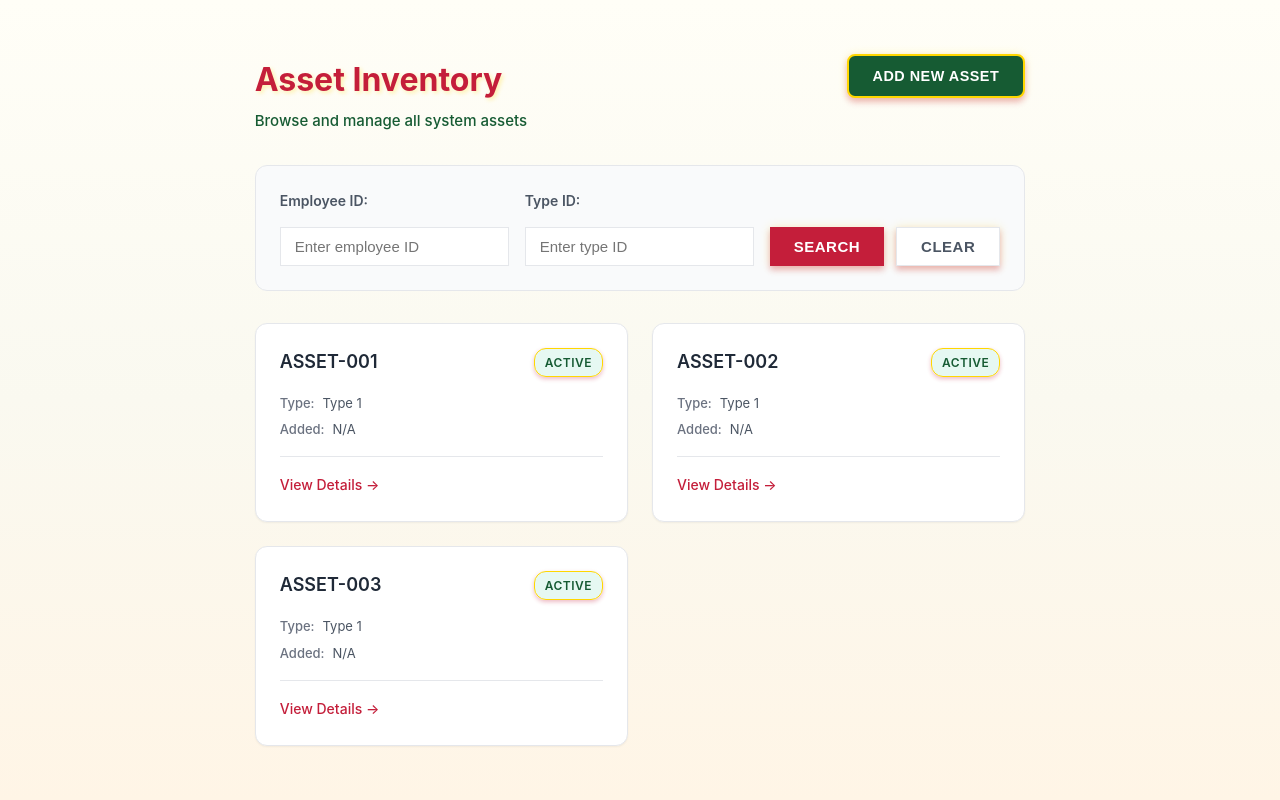
Test: AssetListView.vue › filters assets by employee ID
Type "1" into the field with id "employeeIdFilter" at (394, 246), box [280,226,509,266]
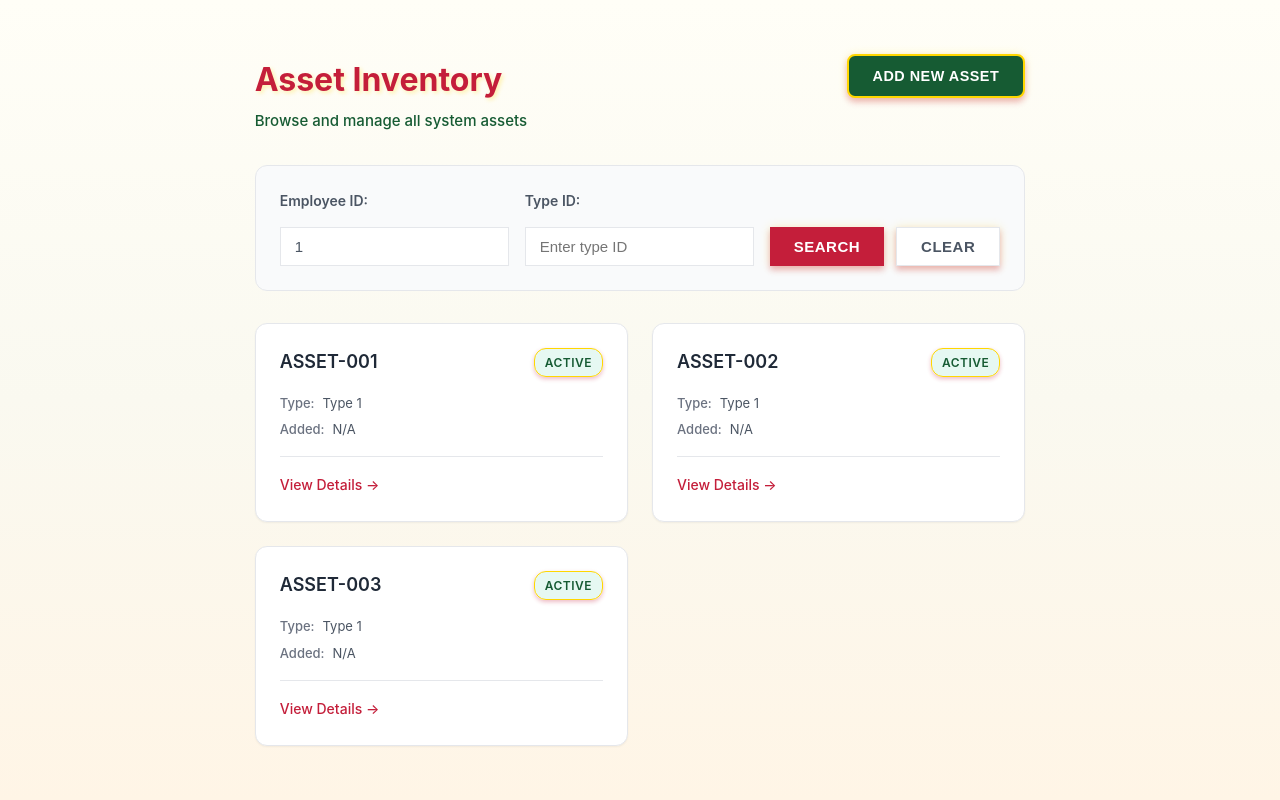
Click the button with class "btn-filter" at (827, 246), box [770,226,884,266]
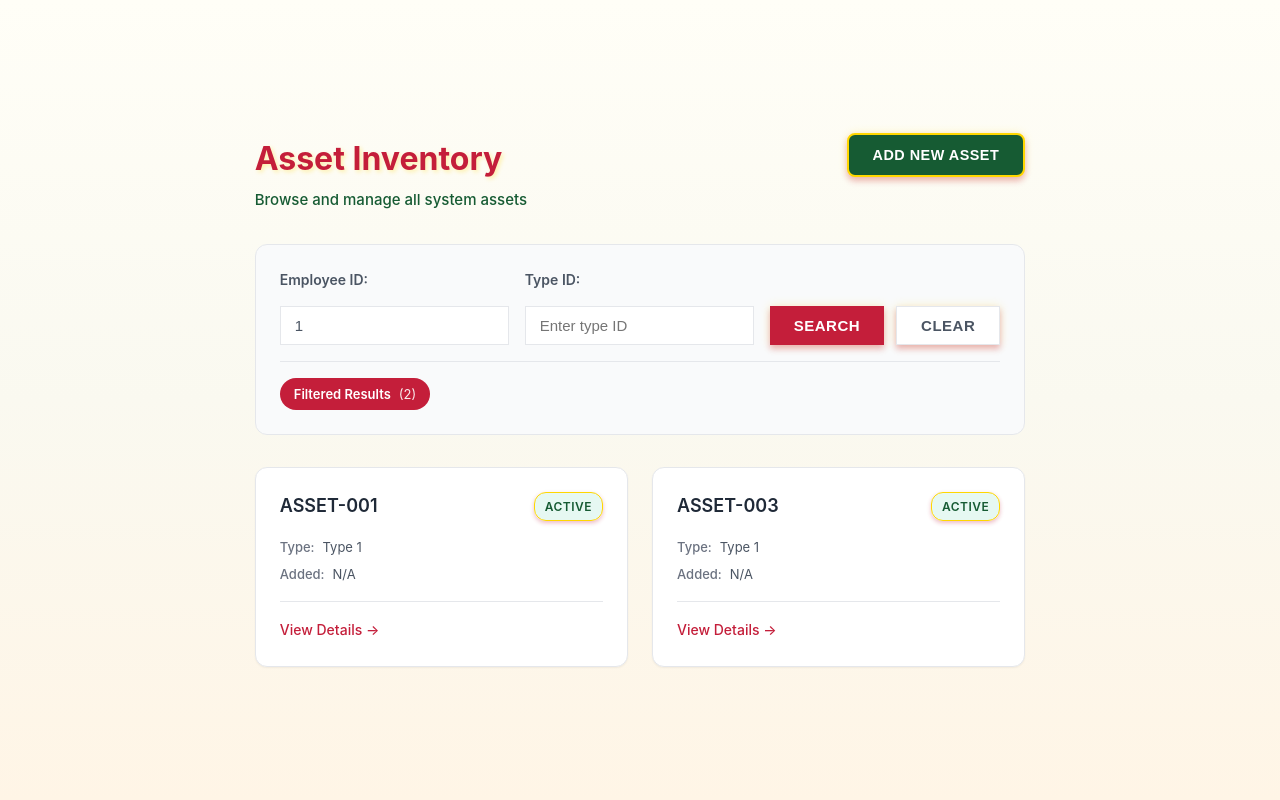
Result: the number of elements with class "asset-card" is 2 at [255,467,628,667]; [652,467,1025,667]
Result: the text "Filtered Results" is shown at [294,386,391,402]
